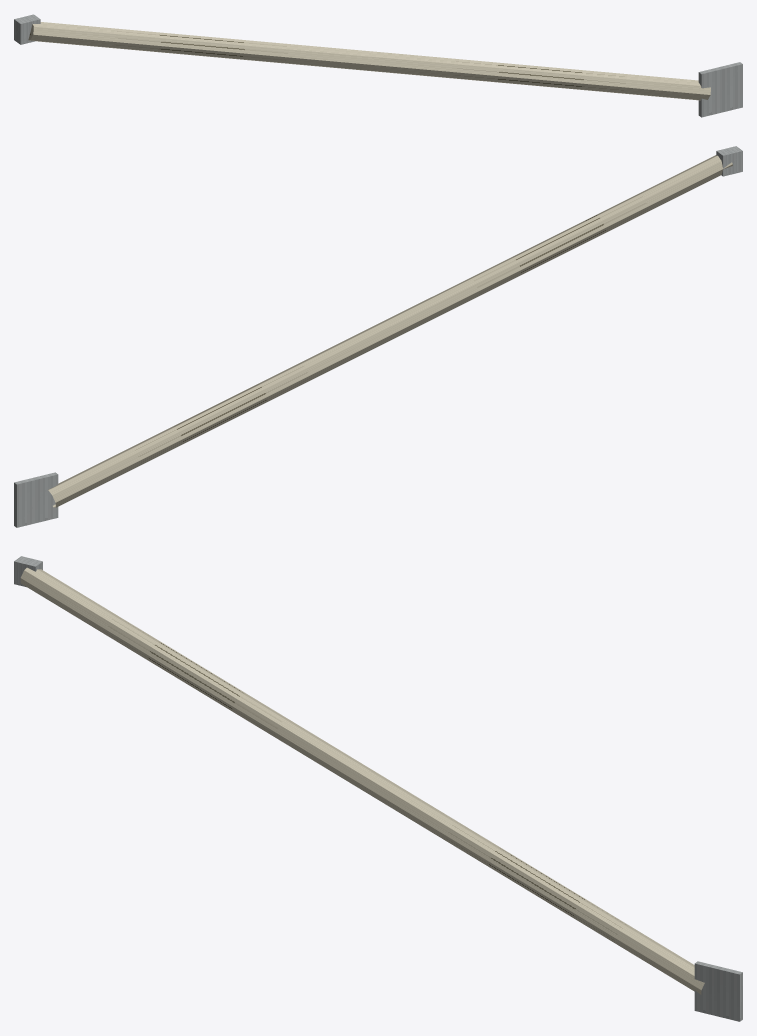
File: brace_l.obj
3 views of the same model, one above another, from view 1: azimuth 30°, elevation 25°; view 2: azimuth 210°, elevation 25°; view 3: azimuth 330°, elevation 25° (orthographic). The views are drawn at different scales.
Parts seen in each view (by area): view 1: crossarm_alley_fiberglass_7_l; view 2: crossarm_alley_fiberglass_7_l; view 3: crossarm_alley_fiberglass_7_l.
Boxes of the visible parts, x1,y1,x2,y2 form: crossarm_alley_fiberglass_7_l: [14, 14, 742, 117]; crossarm_alley_fiberglass_7_l: [14, 146, 742, 527]; crossarm_alley_fiberglass_7_l: [14, 556, 742, 1021].
Bounding box in the file's own units: 5.23 × 1.67 × 0.4872.
